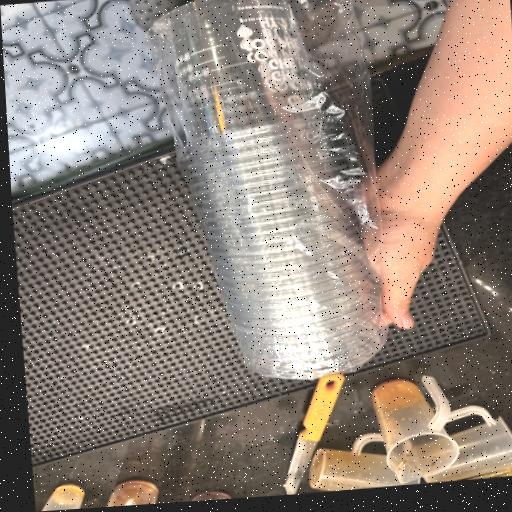cafe_xay: (222, 331, 262, 384)
ly_nhua: (149, 0, 402, 418)
